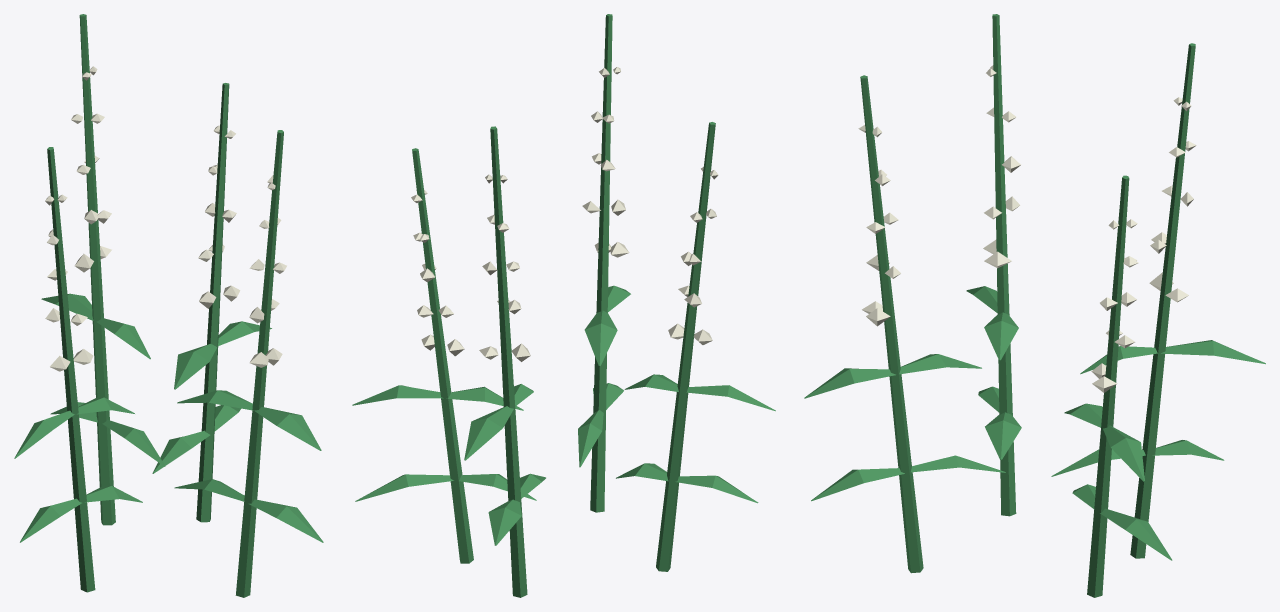
Rendered from flowers_tall_a.glb.
The picture shows the model from 3 angles, left to right: view 1: azimuth 30°, elevation 25°; view 2: azimuth 150°, elevation 25°; view 3: azimuth 270°, elevation 25°; orthographic projection. The views are drawn at different scales.
Parts seen in each view (by area): view 1: FlowersTallA; view 2: FlowersTallA; view 3: FlowersTallA.
Boxes of the visible parts, bbox=[...] form: FlowersTallA: bbox=[14, 14, 323, 597]; FlowersTallA: bbox=[352, 14, 775, 597]; FlowersTallA: bbox=[804, 14, 1265, 597].
Size of the model in its own units: 0.7389 by 1.01 by 0.825.
